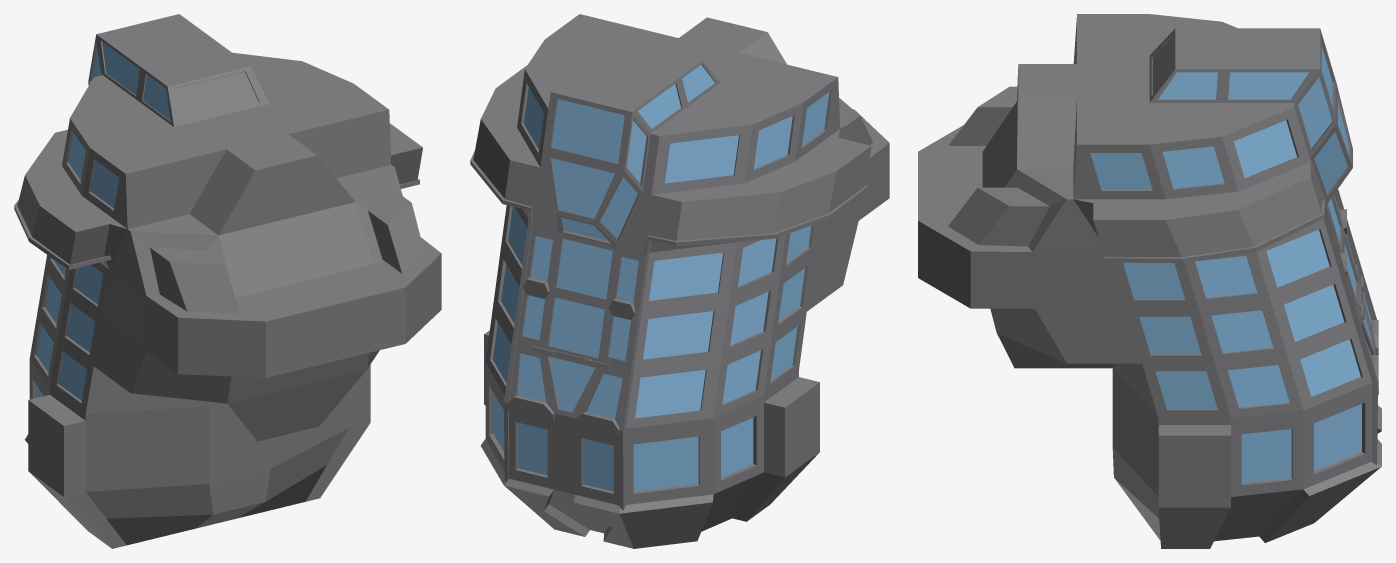
The model's file is ShipHull.glb.
3 views of the same model, side by side, from view 1: azimuth 30°, elevation 25°; view 2: azimuth 150°, elevation 25°; view 3: azimuth 270°, elevation 25° (orthographic). The views are drawn at different scales.
Visible parts, largest first — view 1: Bridge_BeerBelly_53; view 2: Bridge_BeerBelly_53; view 3: Bridge_BeerBelly_53.
Part boxes in pixels (x1,y1,x2,y2): Bridge_BeerBelly_53: (14,14,441,548); Bridge_BeerBelly_53: (470,14,889,548); Bridge_BeerBelly_53: (918,14,1381,548).
Bounding box in the file's own units: 2.04 × 2.47 × 2.29.
